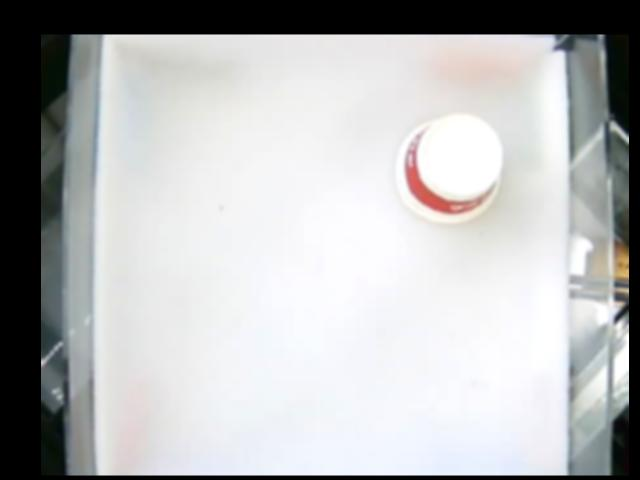Cup: (393, 111, 505, 228)
